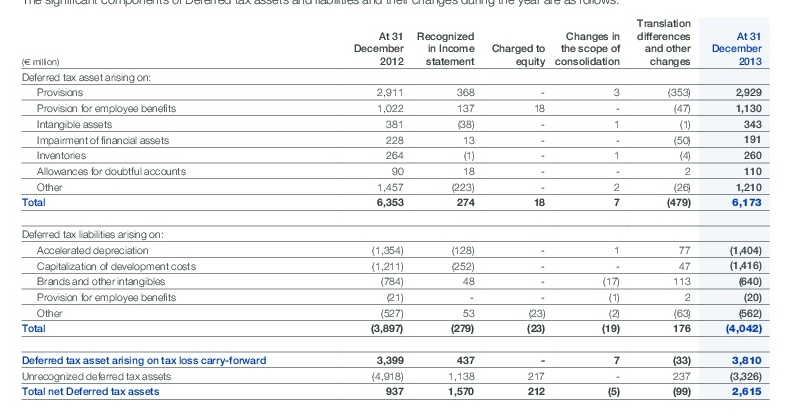table: (0, 0, 789, 416)
